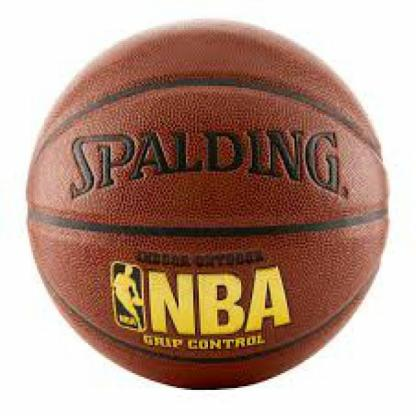basketball: (26, 19, 388, 392)
